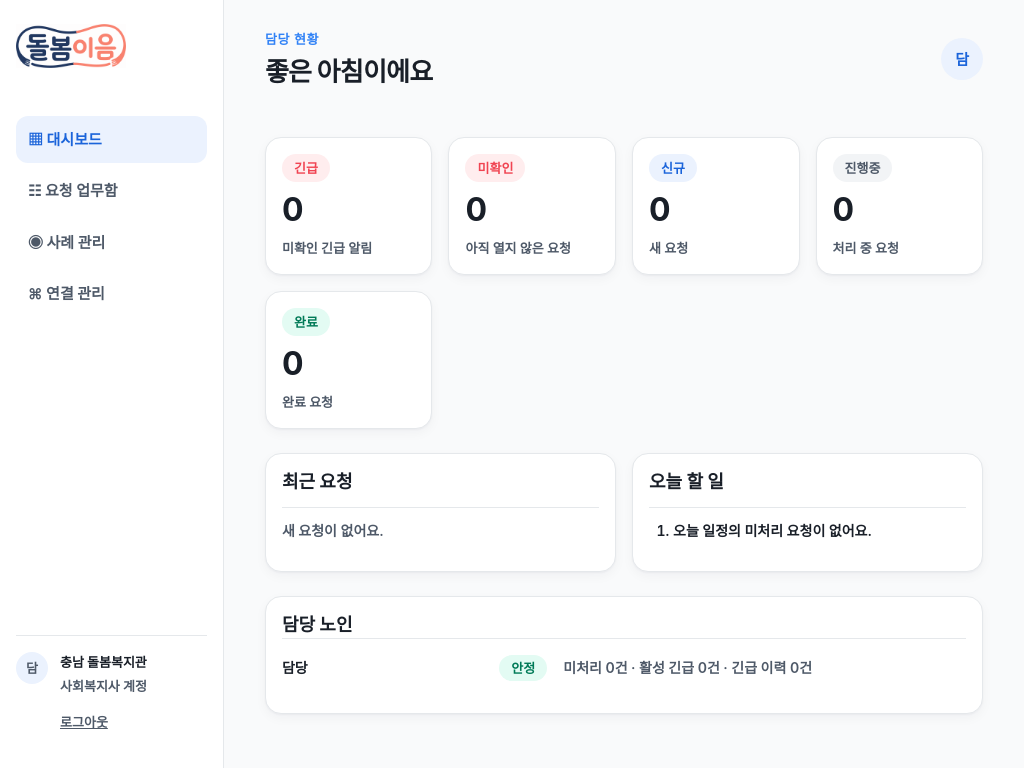
Test case: WorkerDashboard — inbox driven by real API + realtime, not hardcoded mock data (Phase 4) › renders the inbox from GET /api/service-requests instead of a hardcoded array
The width and height of the screenshot is (1024, 768).
Click the button "☷ 요청 업무함". click: coordinates (112, 191)
box: x1=16 y1=167 x2=207 y2=215
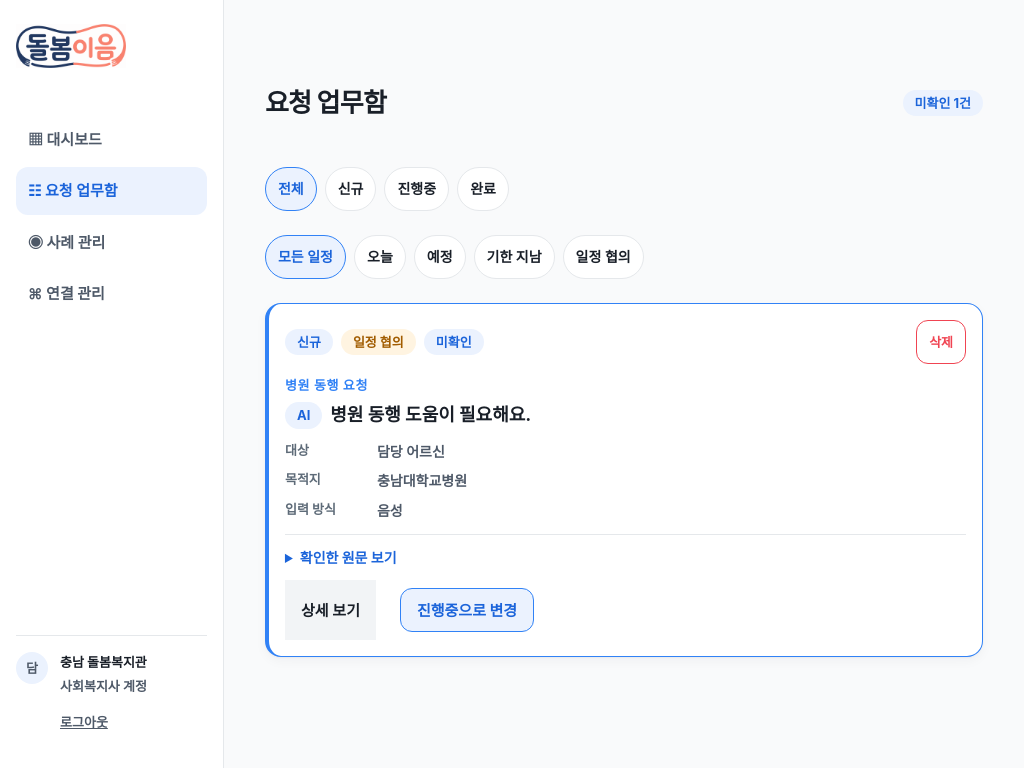
Check: the text "병원 동행 도움이 필요해요." is shown, box x1=330 y1=404 x2=531 y2=425
